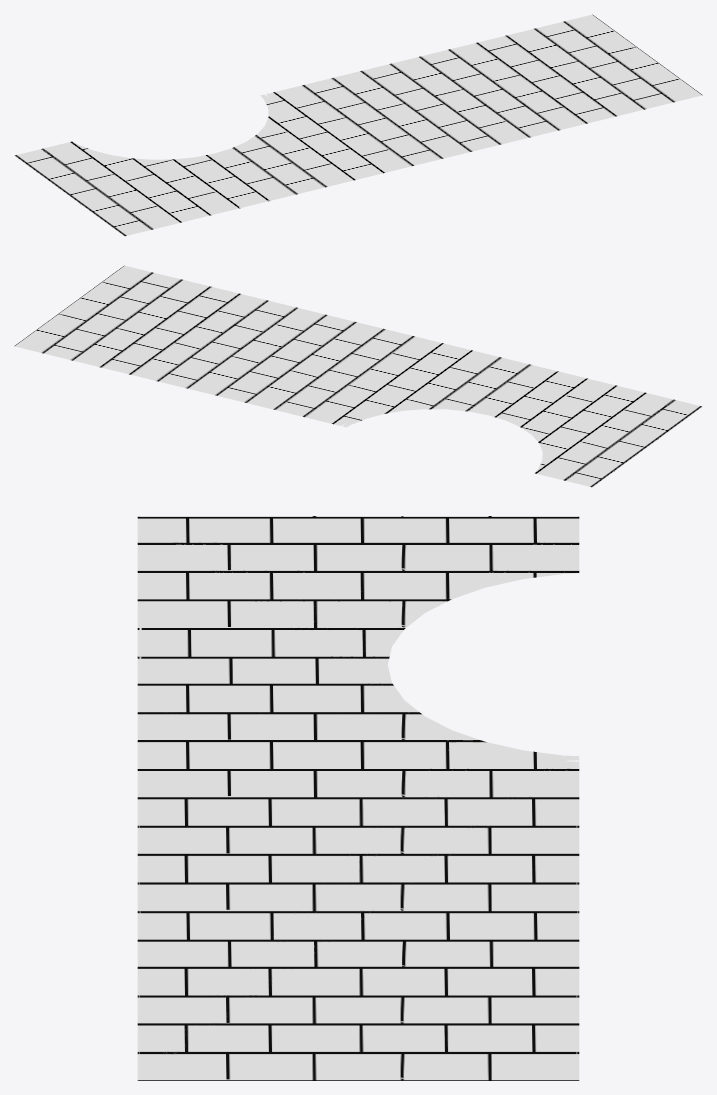
The model's file is BrokenPlane.fbx.
3 views of the same model, one above another, from view 1: azimuth 30°, elevation 25°; view 2: azimuth 150°, elevation 25°; view 3: azimuth 270°, elevation 25° (orthographic). The views are drawn at different scales.
Parts seen in each view (by area): view 1: Plane; view 2: Plane; view 3: Plane.
Part boxes in pixels (box(x1,y1,x2,y2)): Plane: box(14, 14, 702, 236); Plane: box(14, 265, 702, 487); Plane: box(137, 516, 579, 1080).
Bounding box in the file's own units: 605 × 0 × 200.
